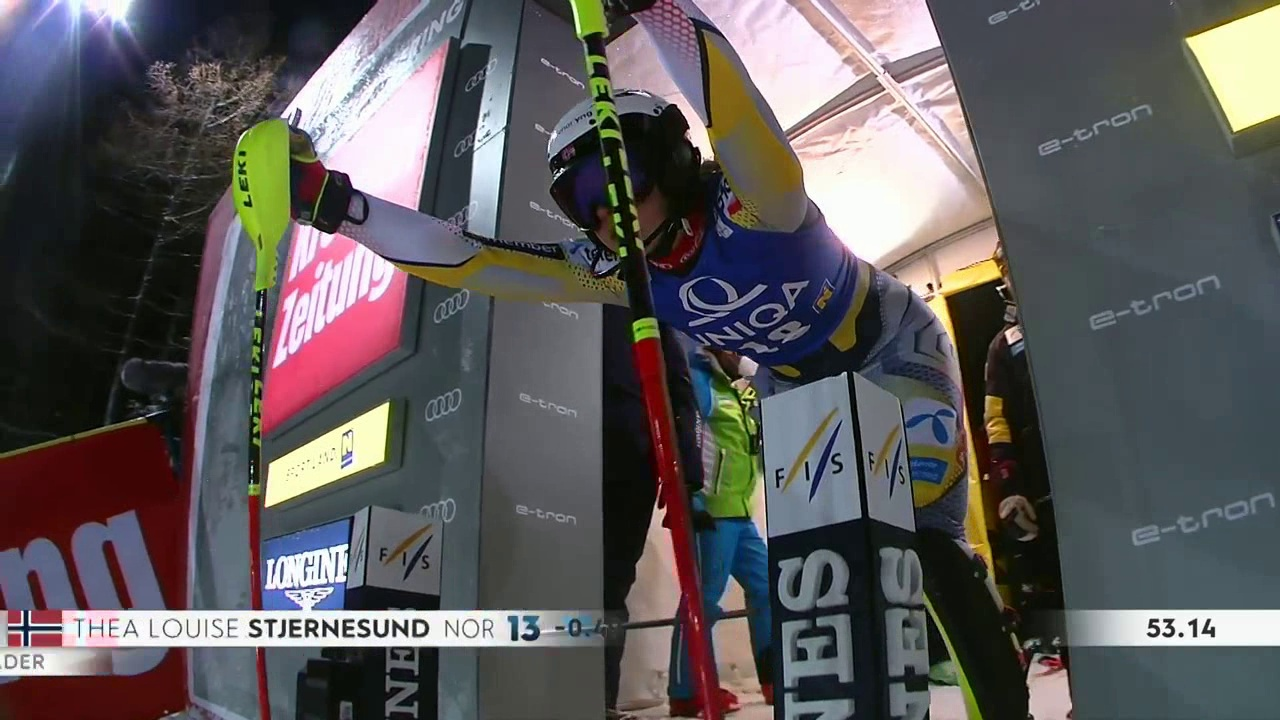audi: (418, 386, 469, 430), (428, 287, 477, 331), (414, 496, 465, 528)
kronenzeitung: (14, 432, 161, 640)
uniqa: (666, 264, 818, 352)
